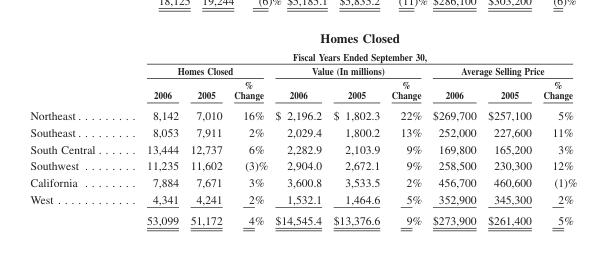table: (29, 29, 576, 226)
table column: (29, 29, 120, 226), (120, 29, 183, 226), (326, 29, 385, 226), (271, 29, 326, 226), (426, 29, 481, 226), (481, 29, 536, 226), (183, 29, 227, 226), (227, 29, 271, 226), (385, 29, 426, 226), (536, 29, 576, 226)
table column header: (29, 29, 576, 104)
table row: (29, 29, 576, 62), (29, 77, 576, 104), (29, 104, 576, 123), (29, 190, 576, 209), (29, 123, 576, 140), (29, 140, 576, 157), (29, 173, 576, 190), (29, 209, 576, 226), (29, 157, 576, 173), (29, 62, 576, 77)
table spanning cell: (120, 29, 576, 62), (271, 62, 426, 77), (120, 62, 271, 77), (426, 62, 576, 77)
